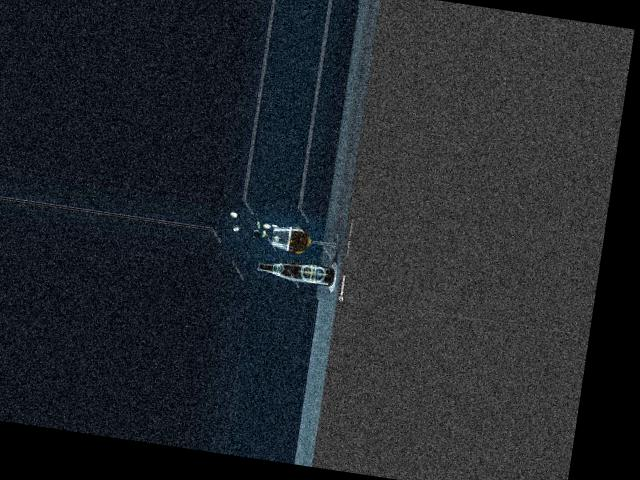beer: (257, 257, 334, 286)
